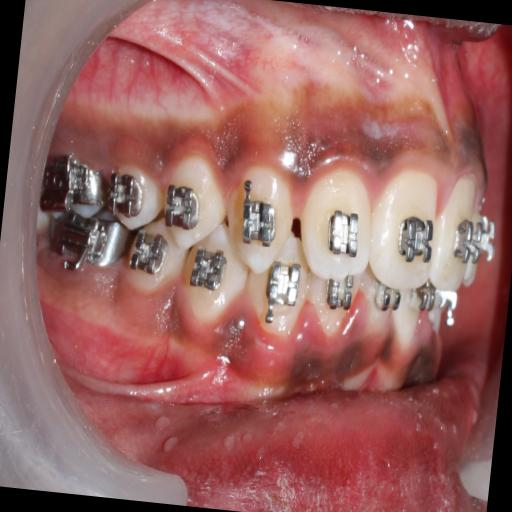correct_brace: (156, 153, 230, 259), (235, 194, 282, 254), (322, 204, 368, 262), (396, 210, 439, 268)
incorrect_brace: (296, 168, 378, 282), (159, 182, 204, 240)
